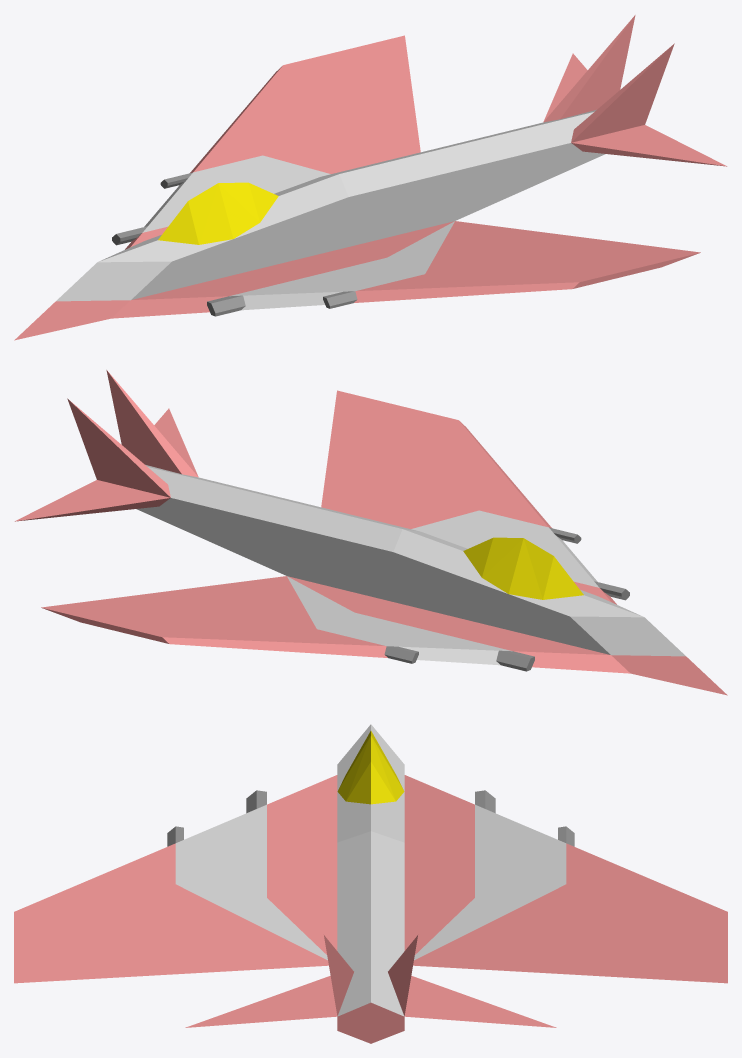
File: SP Eagle.fbx
The picture shows the model from 3 angles, top to bottom: view 1: azimuth 30°, elevation 25°; view 2: azimuth 150°, elevation 25°; view 3: azimuth 270°, elevation 25°; orthographic projection. The views are drawn at different scales.
Visible parts, largest first — view 1: SP Eagle; view 2: SP Eagle; view 3: SP Eagle.
Boxes of the visible parts, x1,y1,x2,y2 form: SP Eagle: (14,15,727,340); SP Eagle: (14,370,727,695); SP Eagle: (14,724,727,1043).
Size of the model in its own units: 879 by 203 by 704.
